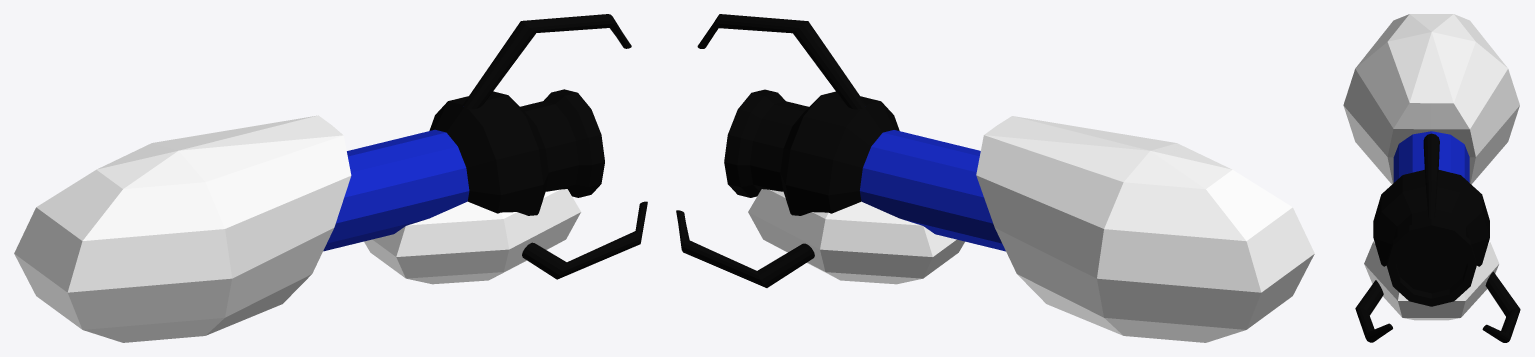
Rendered from lowpolyportalgunblue.obj.
3 views of the same model, side by side, from view 1: azimuth 30°, elevation 25°; view 2: azimuth 150°, elevation 25°; view 3: azimuth 270°, elevation 25° (orthographic). The views are drawn at different scales.
Parts seen in each view (by area): view 1: Cylinder.001; view 2: Cylinder.001; view 3: Cylinder.001.
Boxes of the visible parts, <box> form: Cylinder.001: <box>14,14,647,342</box>; Cylinder.001: <box>676,14,1314,342</box>; Cylinder.001: <box>1343,14,1520,342</box>.
Bounding box in the file's own units: 4.64 × 1.78 × 1.46.
